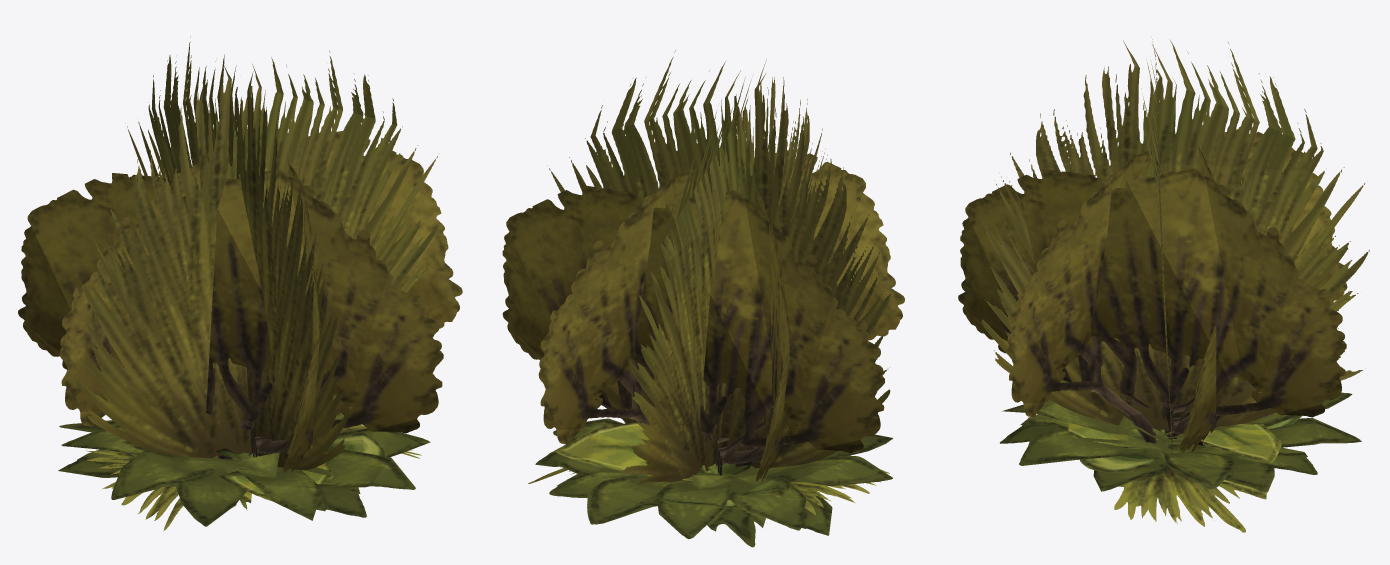
The model's file is Grass.fbx.
The picture shows the model from 3 angles, left to right: view 1: azimuth 30°, elevation 25°; view 2: azimuth 150°, elevation 25°; view 3: azimuth 270°, elevation 25°; orthographic projection. The views are drawn at different scales.
Parts seen in each view (by area): view 1: Grass_1, Grass_2, Plant_2, Plant_1; view 2: Grass_2, Grass_1, Plant_2, Plant_1; view 3: Grass_2, Grass_1, Plant_2, Plant_1.
Part boxes in pixels (left/top/right/bottom): Grass_1: left=76, top=37, right=439, bottom=469; Grass_2: left=18, top=131, right=462, bottom=472; Plant_2: left=58, top=407, right=430, bottom=526; Plant_1: left=86, top=424, right=421, bottom=530; Grass_2: left=502, top=150, right=904, bottom=481; Grass_1: left=549, top=50, right=892, bottom=488; Plant_2: left=535, top=418, right=892, bottom=547; Plant_1: left=528, top=422, right=889, bottom=514; Grass_2: left=958, top=129, right=1347, bottom=452; Grass_1: left=981, top=39, right=1369, bottom=455; Plant_2: left=1000, top=392, right=1361, bottom=492; Plant_1: left=1028, top=414, right=1302, bottom=532.
Bounding box in the file's own units: 2.76 × 2.55 × 2.91.
